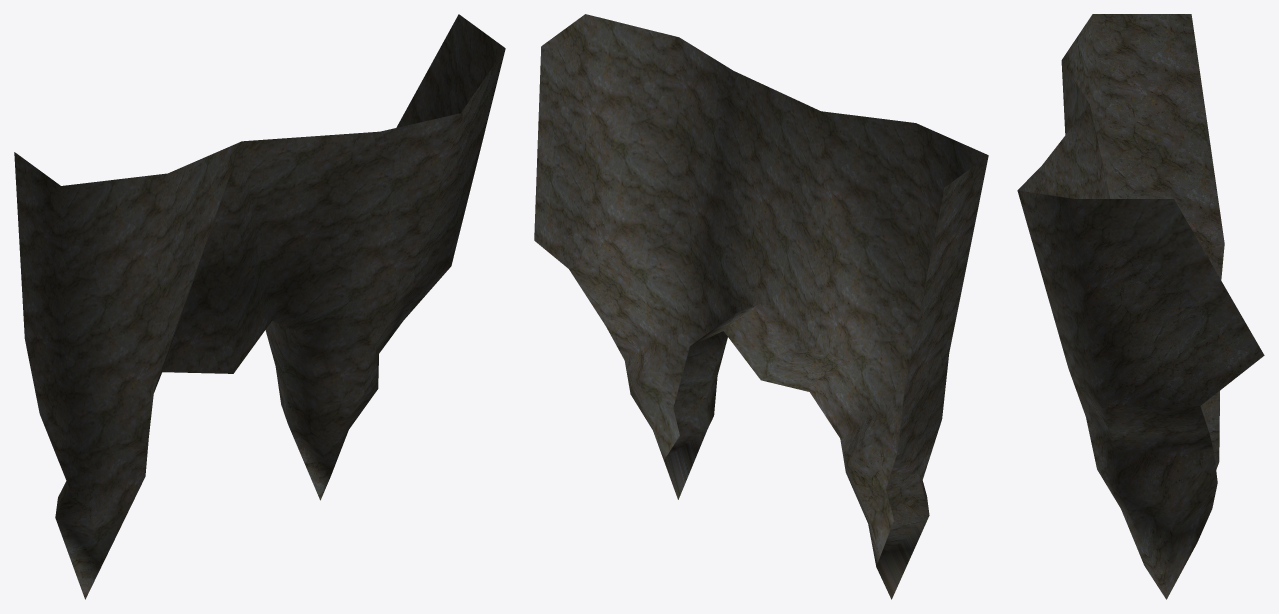
Rendered from common_underground_zhongrushi.FBX.
3 views of the same model, side by side, from view 1: azimuth 30°, elevation 25°; view 2: azimuth 150°, elevation 25°; view 3: azimuth 270°, elevation 25° (orthographic). The views are drawn at different scales.
Visible parts, largest first — view 1: common_underground_zhongrushi; view 2: common_underground_zhongrushi; view 3: common_underground_zhongrushi.
Boxes of the visible parts, <box> form: common_underground_zhongrushi: <box>14,14,505,599</box>; common_underground_zhongrushi: <box>534,14,988,599</box>; common_underground_zhongrushi: <box>1017,14,1264,599</box>.
Size of the model in its own units: 25.94 by 12.08 by 28.16.
